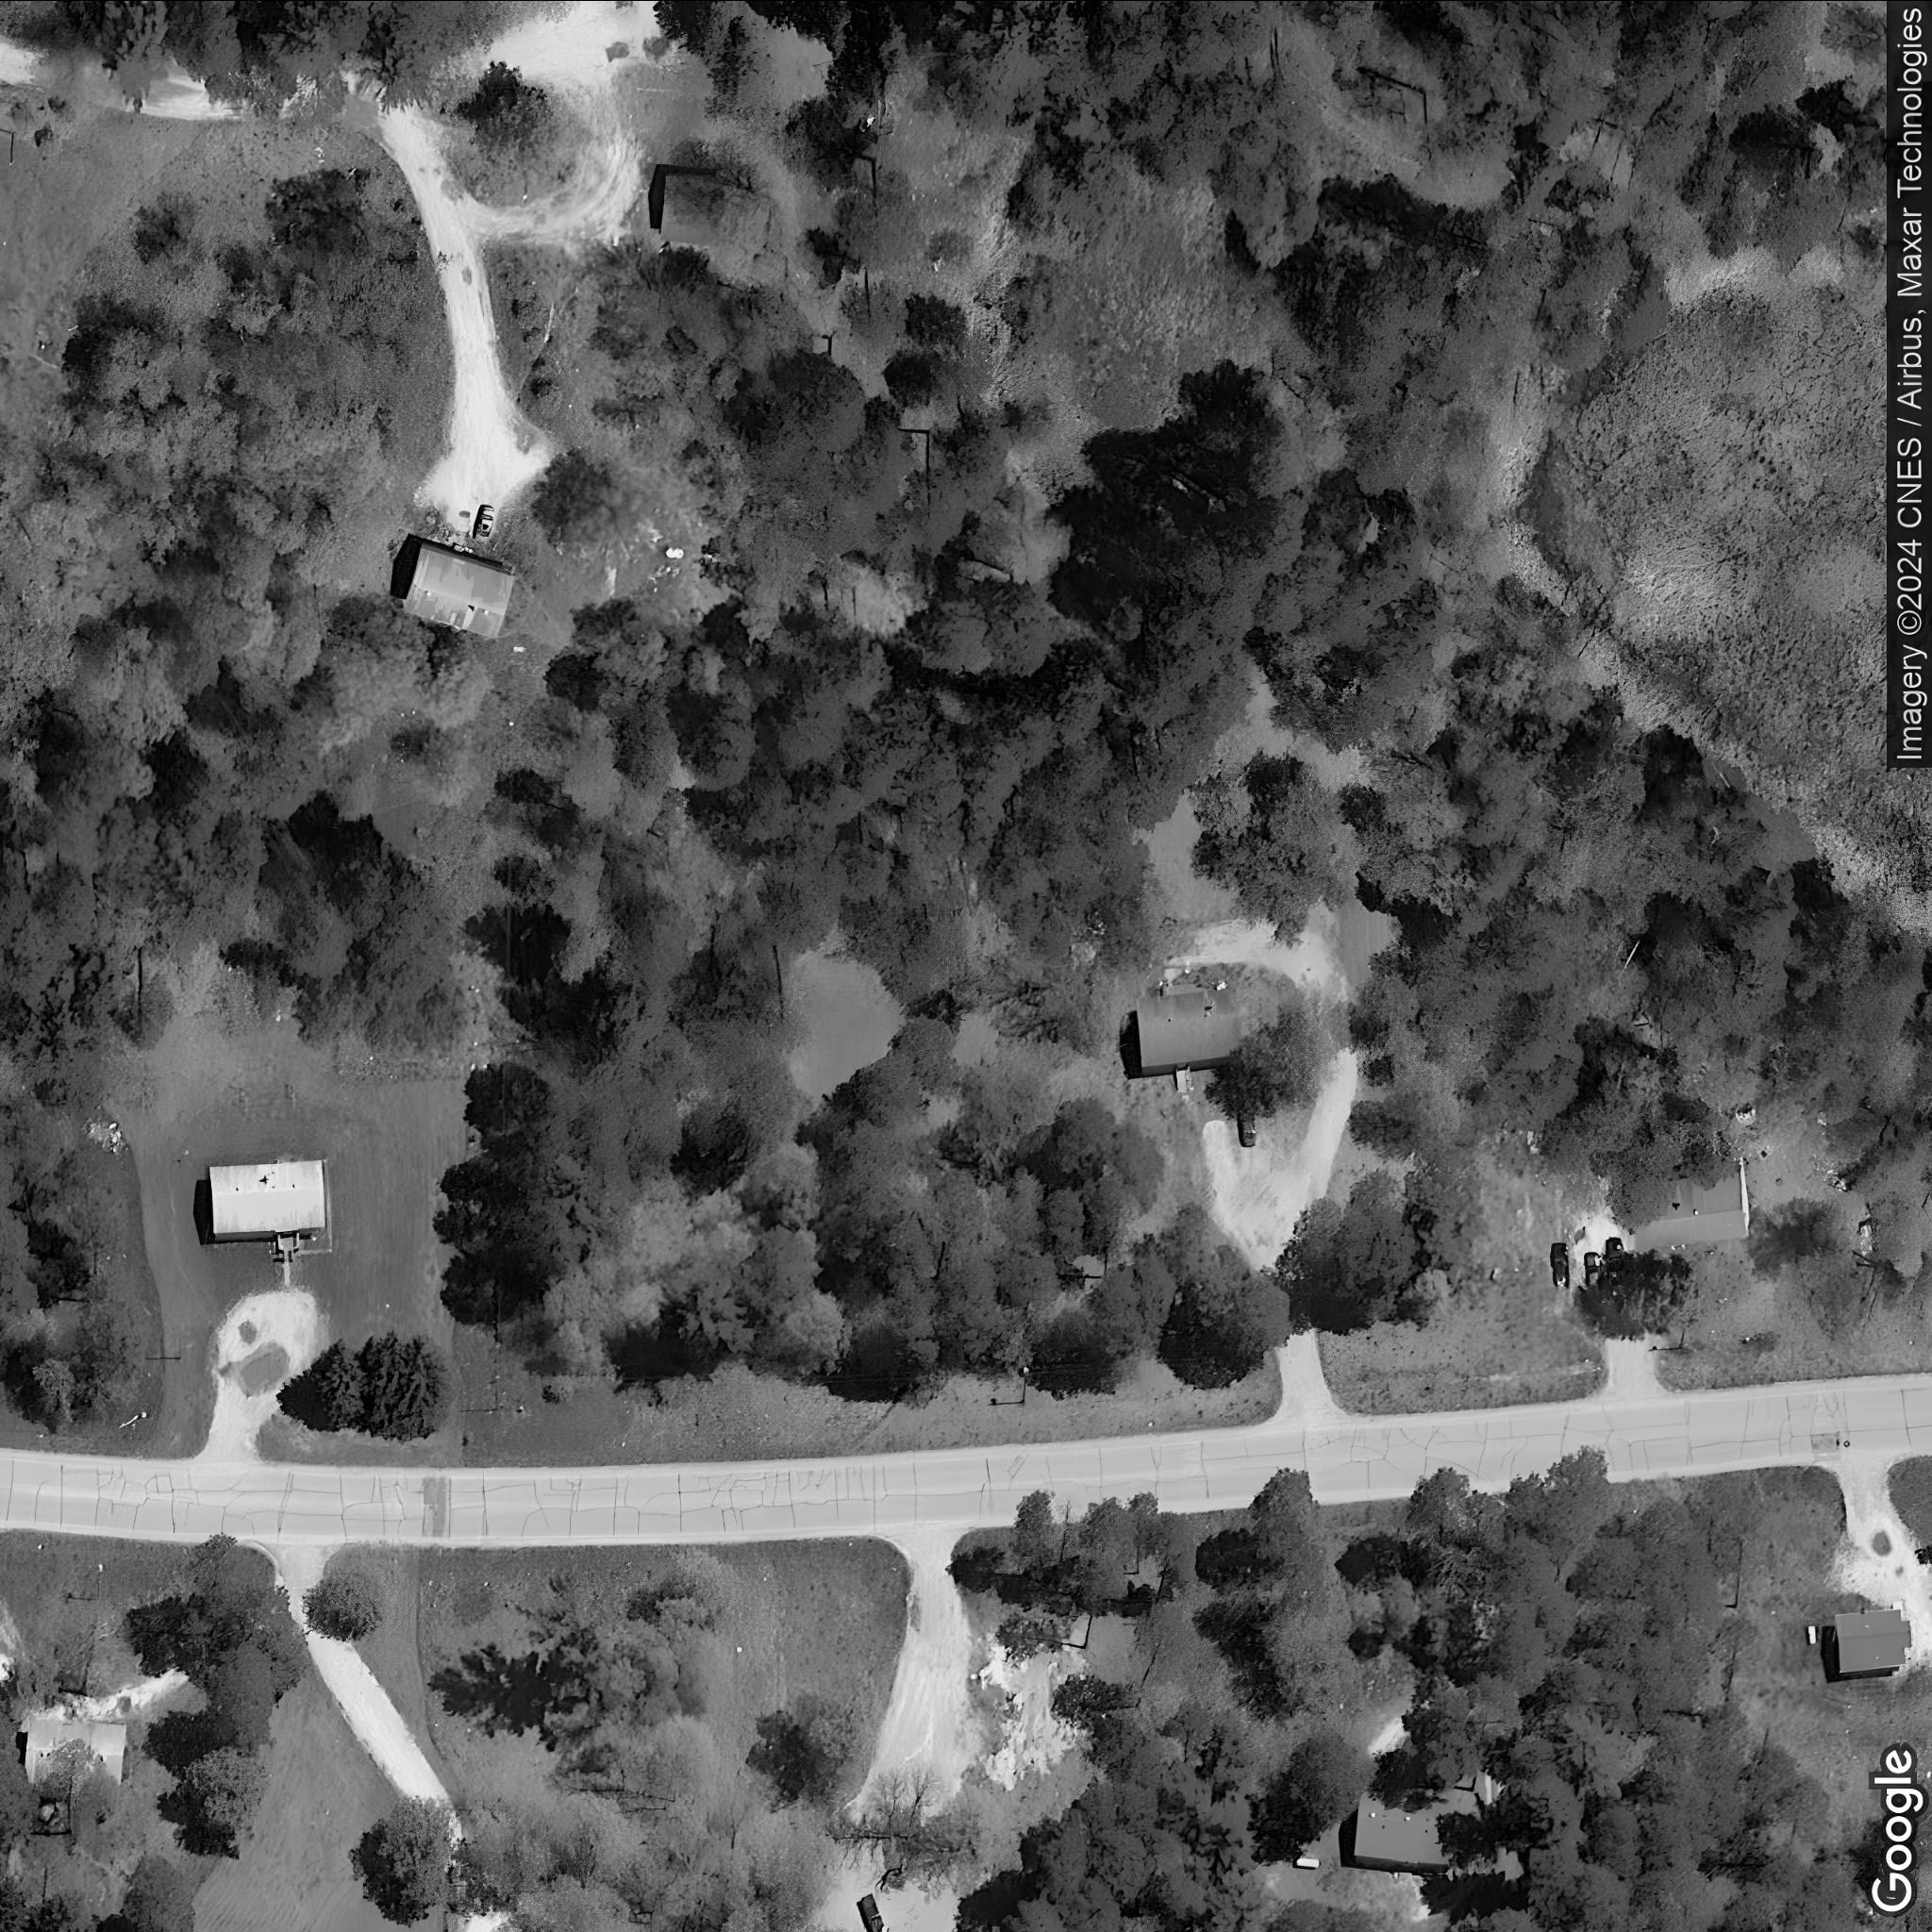Garage: (658, 172, 725, 251)
House: (1624, 1152, 1752, 1254), (398, 534, 518, 642), (205, 1155, 327, 1242), (1132, 987, 1249, 1077), (1352, 1787, 1460, 1875), (21, 1713, 129, 1794), (1831, 1606, 1914, 1675)
Propane: (1290, 1851, 1323, 1872), (1803, 1621, 1821, 1645)
